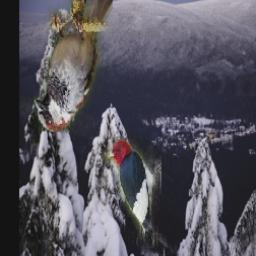Sparrow: (34, 0, 113, 133)
Woodpecker: (103, 140, 163, 249)
